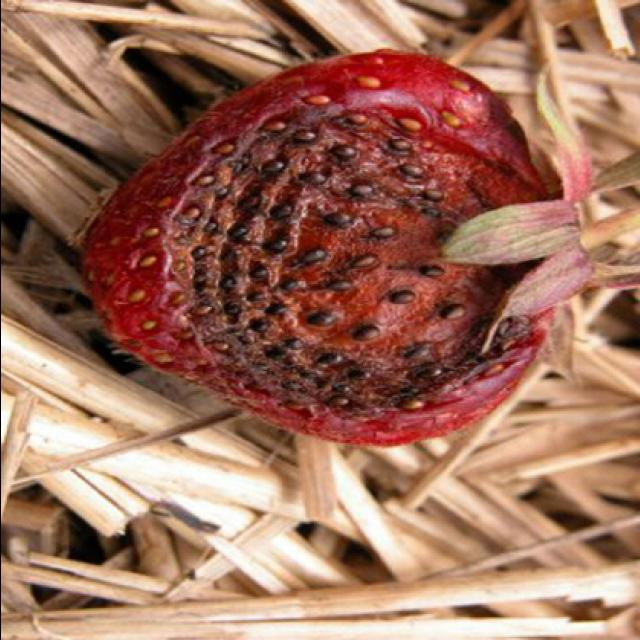Anthracnose Fruit Rot: (185, 147, 483, 378)
